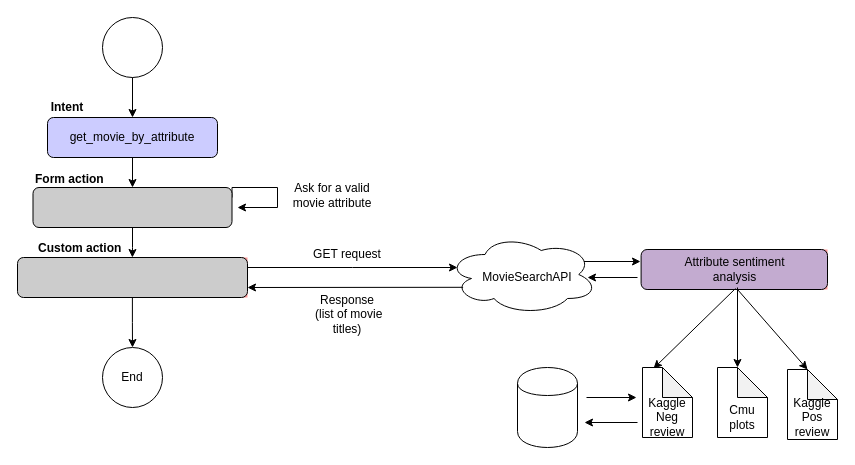
Image size: 855x465. Some labels were removed from this diagram. Here are the shapes that lost their labels. From the top down, the centre of each, then its label:
the point at 132,47: Start
the point at 132,207: get_movie_by_attribute_form
the point at 132,277: action_get_movie_by_attribute
the point at 547,407: IMDB database
